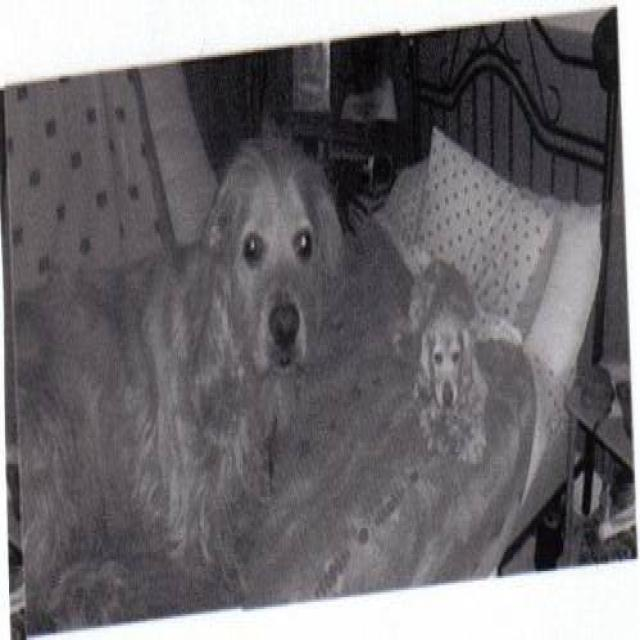dog: (18, 112, 348, 633), (394, 255, 523, 464)
